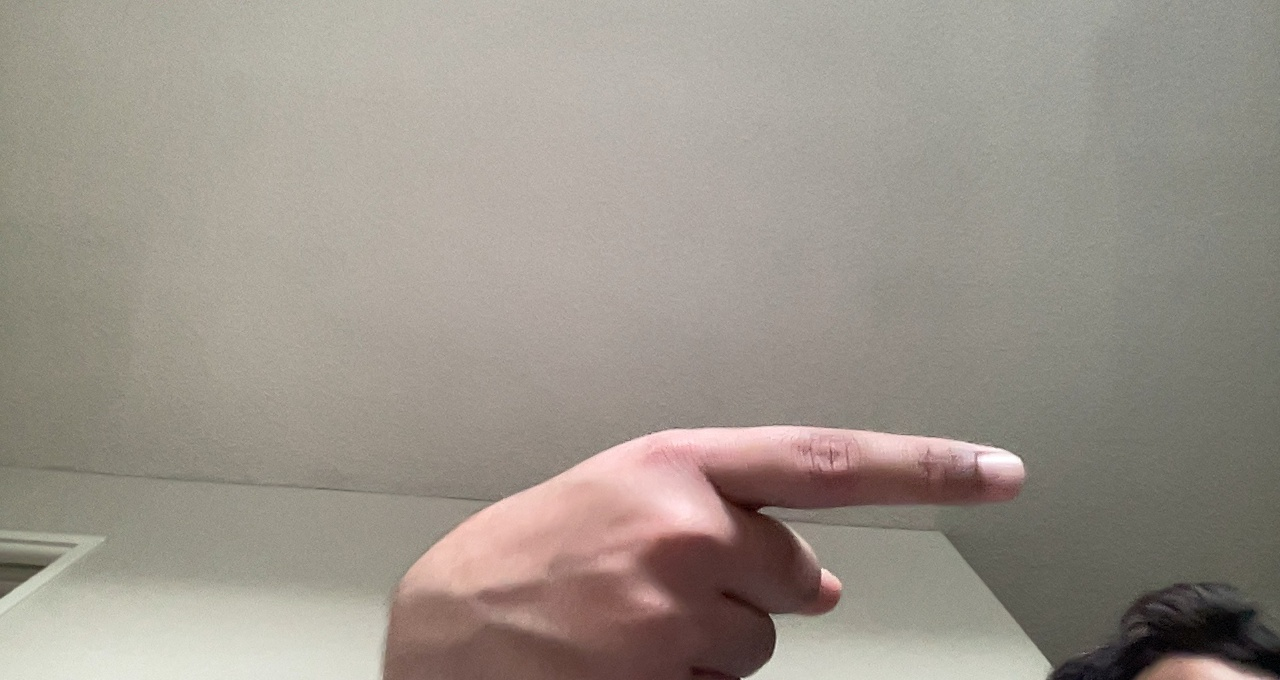fingerleft: (393, 418, 954, 677)
